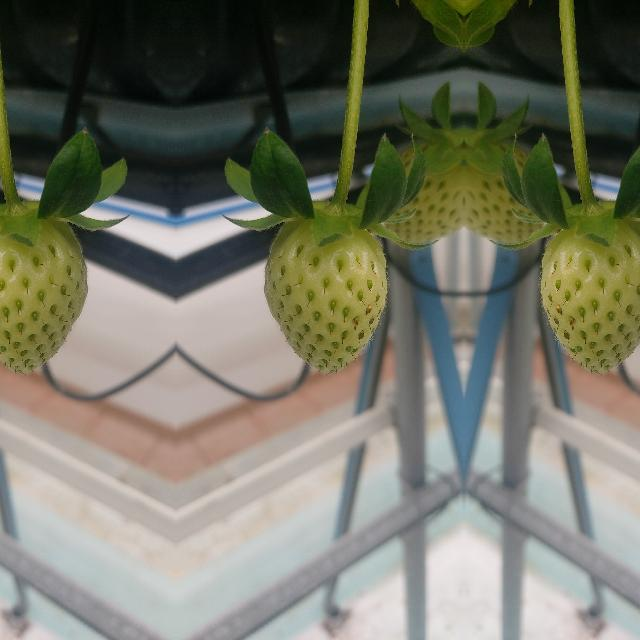Health_25: (262, 216, 386, 372), (540, 216, 640, 372), (0, 216, 87, 372)
